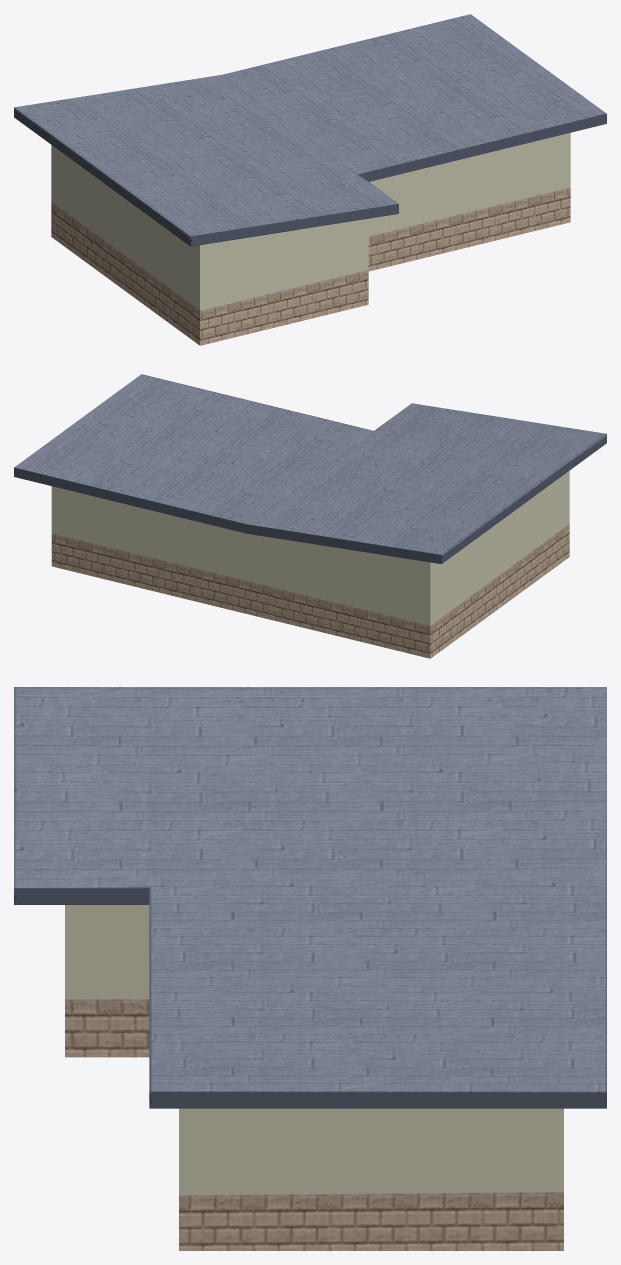
The model's file is HausKerstin2.FBX.
The picture shows the model from 3 angles, top to bottom: view 1: azimuth 30°, elevation 25°; view 2: azimuth 150°, elevation 25°; view 3: azimuth 270°, elevation 25°; orthographic projection. The views are drawn at different scales.
Parts seen in each view (by area): view 1: Object004; view 2: Object004; view 3: Object004.
Part boxes in pixels (box(x1,y1,x2,y2)): Object004: box(14, 14, 606, 345); Object004: box(14, 374, 606, 658); Object004: box(14, 687, 606, 1250).
Bounding box in the file's own units: 45.26 × 11.96 × 30.31.
1 material, 1 textured.
